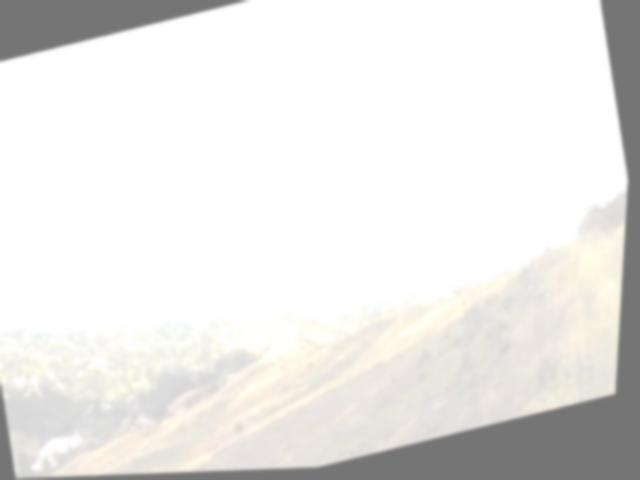iha: (303, 185, 363, 227)
